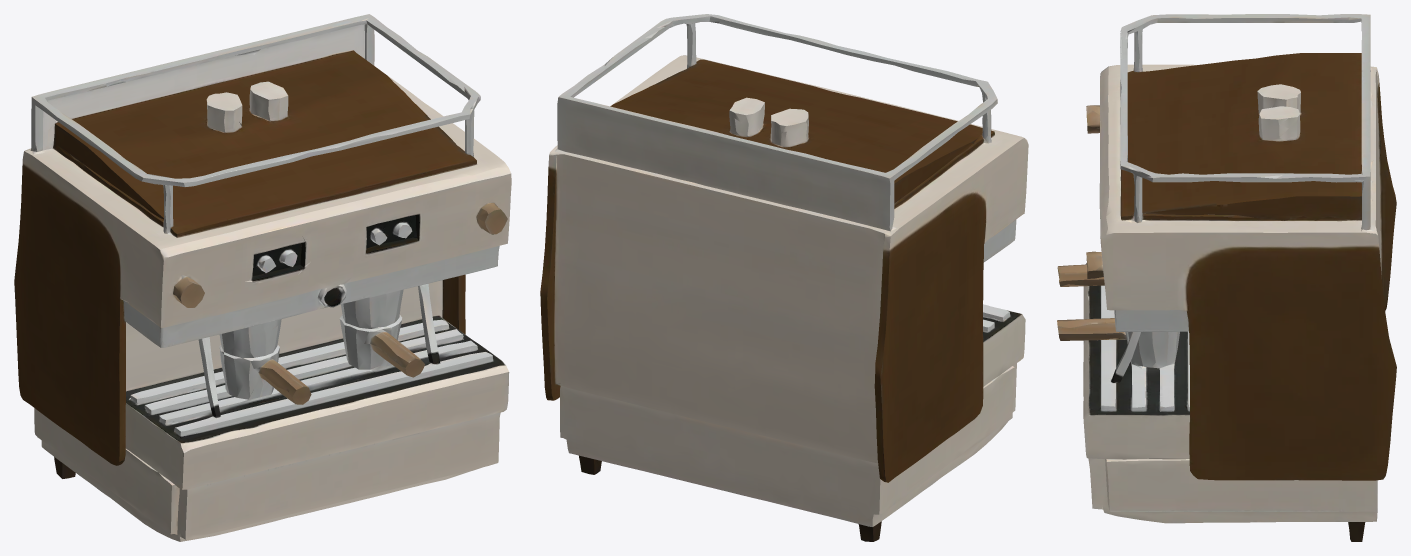
Rendered from espresso-rodin-low-v2.glb.
3 views of the same model, side by side, from view 1: azimuth 30°, elevation 25°; view 2: azimuth 150°, elevation 25°; view 3: azimuth 270°, elevation 25° (orthographic).
Parts seen in each view (by area): view 1: Mesh; view 2: Mesh; view 3: Mesh.
Boxes of the visible parts, box(x1,y1,x2,y2) form: Mesh: box(14, 14, 511, 541); Mesh: box(540, 14, 1028, 541); Mesh: box(1057, 14, 1396, 541).
Size of the model in its own units: 1.76 by 1.82 by 1.49.
Materials: 1 (1 with a texture image).
